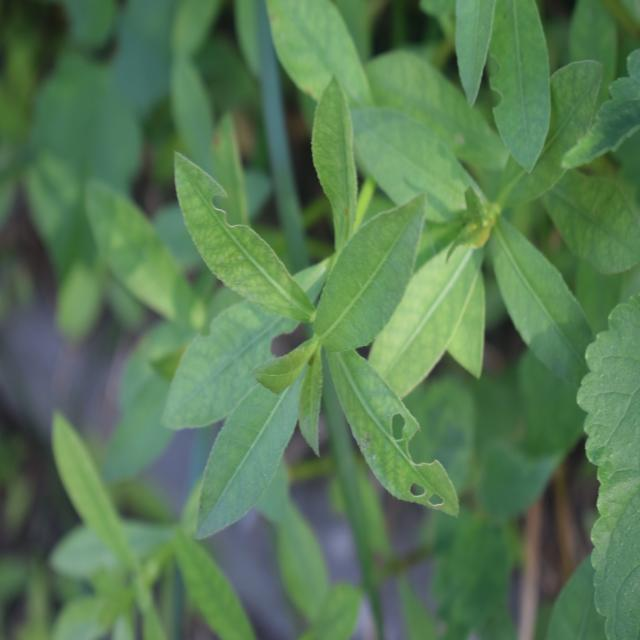Alligatorweed: (126, 144, 442, 532)
